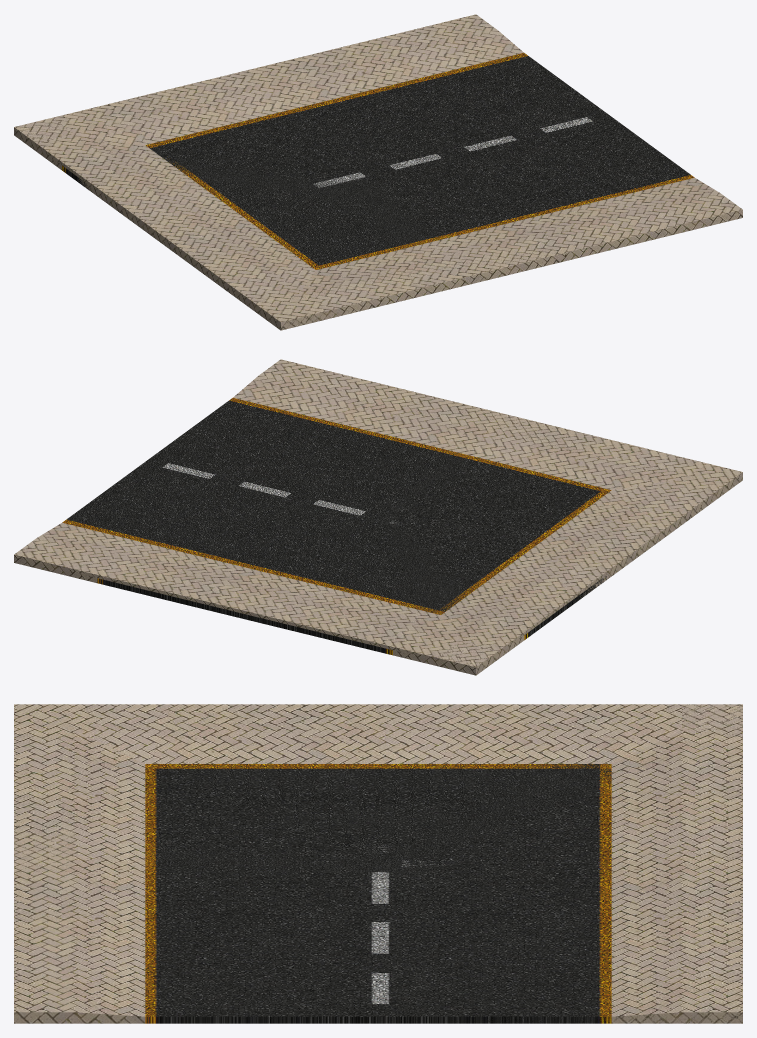
Rendered from new roads.fbx.
3 views of the same model, one above another, from view 1: azimuth 30°, elevation 25°; view 2: azimuth 150°, elevation 25°; view 3: azimuth 270°, elevation 25° (orthographic). The views are drawn at different scales.
Visible parts, largest first — view 1: Straght, L_cross, T_Cross, 4 cross; view 2: Straght, L_cross, T_Cross, 4 cross; view 3: Straght, L_cross, T_Cross.
Part boxes in pixels (x1,y1,x2,y2): Straght: [14, 14, 742, 330]; L_cross: [14, 31, 742, 330]; T_Cross: [62, 164, 740, 296]; 4 cross: [16, 118, 259, 189]; Straght: [14, 359, 609, 675]; L_cross: [385, 398, 742, 665]; T_Cross: [233, 360, 681, 611]; 4 cross: [14, 472, 742, 675]; Straght: [14, 704, 742, 1023]; L_cross: [14, 704, 742, 1023]; T_Cross: [14, 730, 607, 1023].
Bounding box in the file's own units: 39 × 0.6697 × 39.01.
